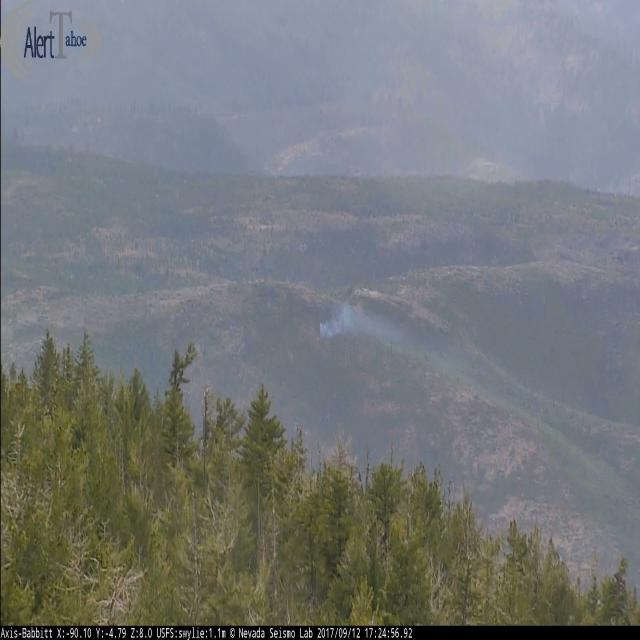smoke: (316, 305, 405, 344)
